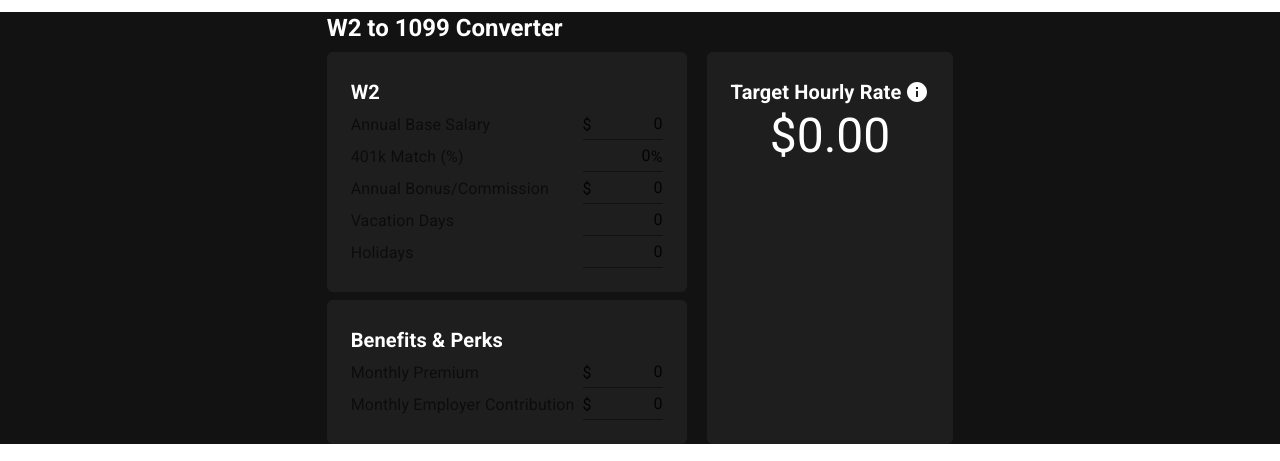
Page › checks calculator output for base salary
Step 1. Replace the text in the field labelled "Annual Base Salary" with "100000" → (627, 124), box [592, 108, 662, 140]
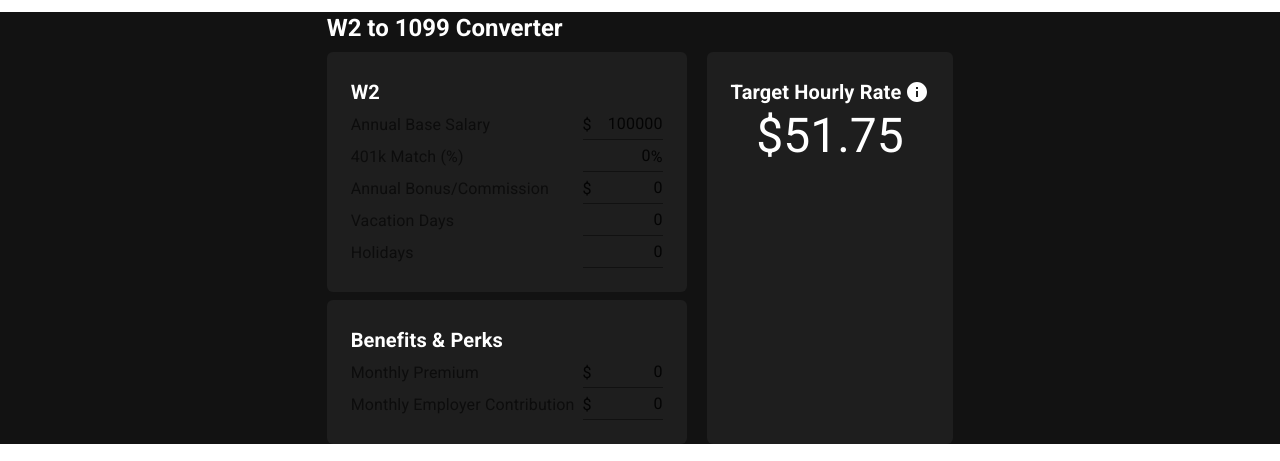
Check: the heading named "Target Hourly Rate" reads "$51.75", box [756, 108, 904, 164]
